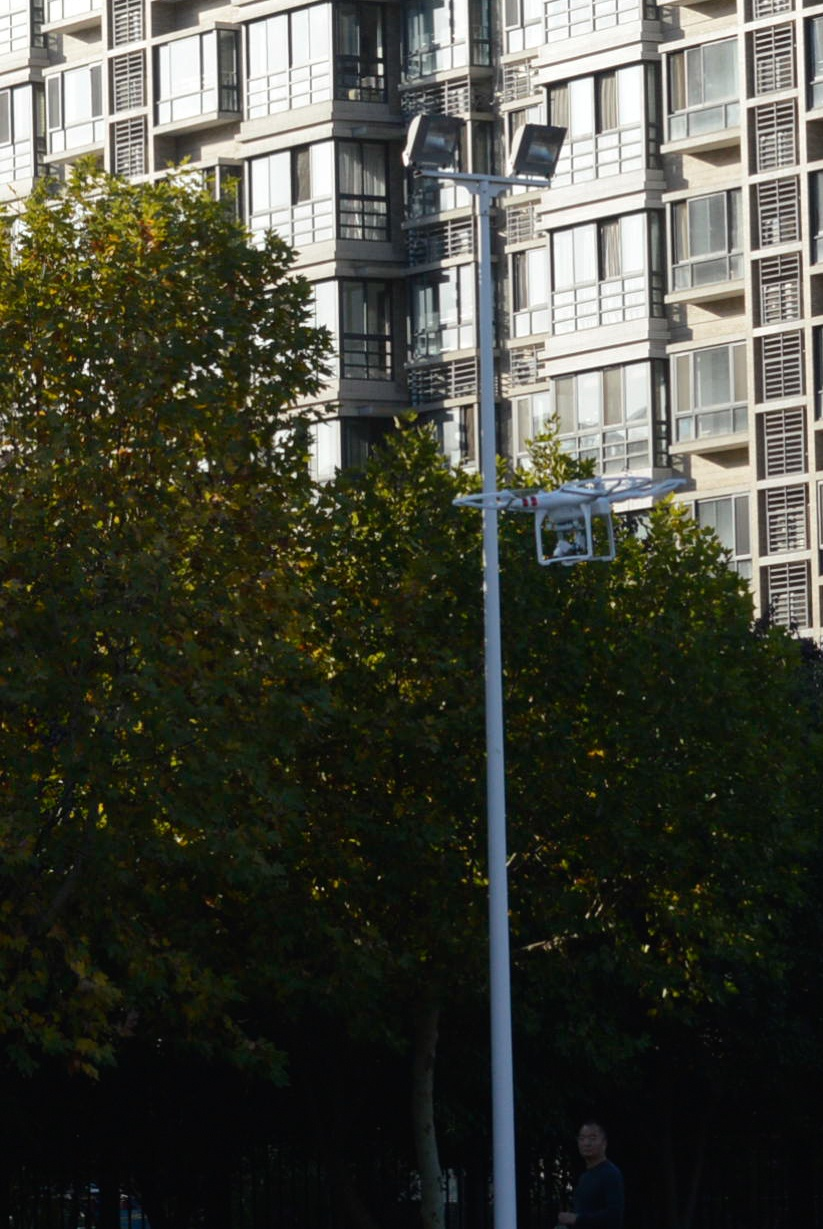DJI: (449, 472, 693, 566)
